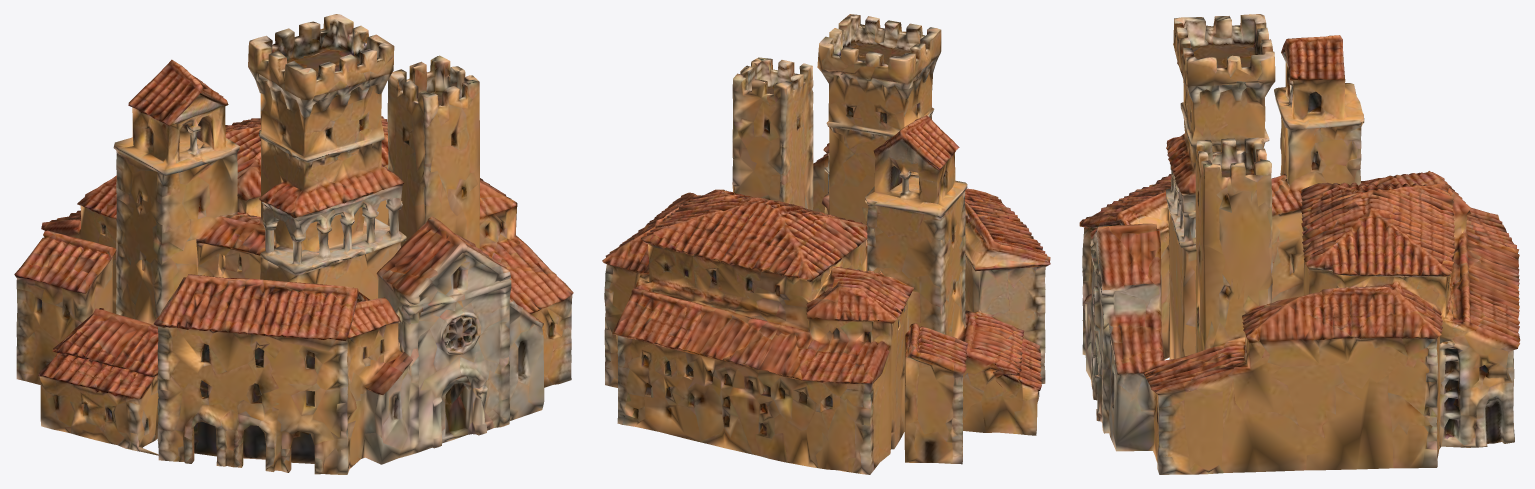
Rendered from citta_b.glb.
3 views of the same model, side by side, from view 1: azimuth 30°, elevation 25°; view 2: azimuth 150°, elevation 25°; view 3: azimuth 270°, elevation 25° (orthographic). The views are drawn at different scales.
Bounding box in the file's own units: 1.9 × 1.47 × 1.73.
1 material, 1 textured.
